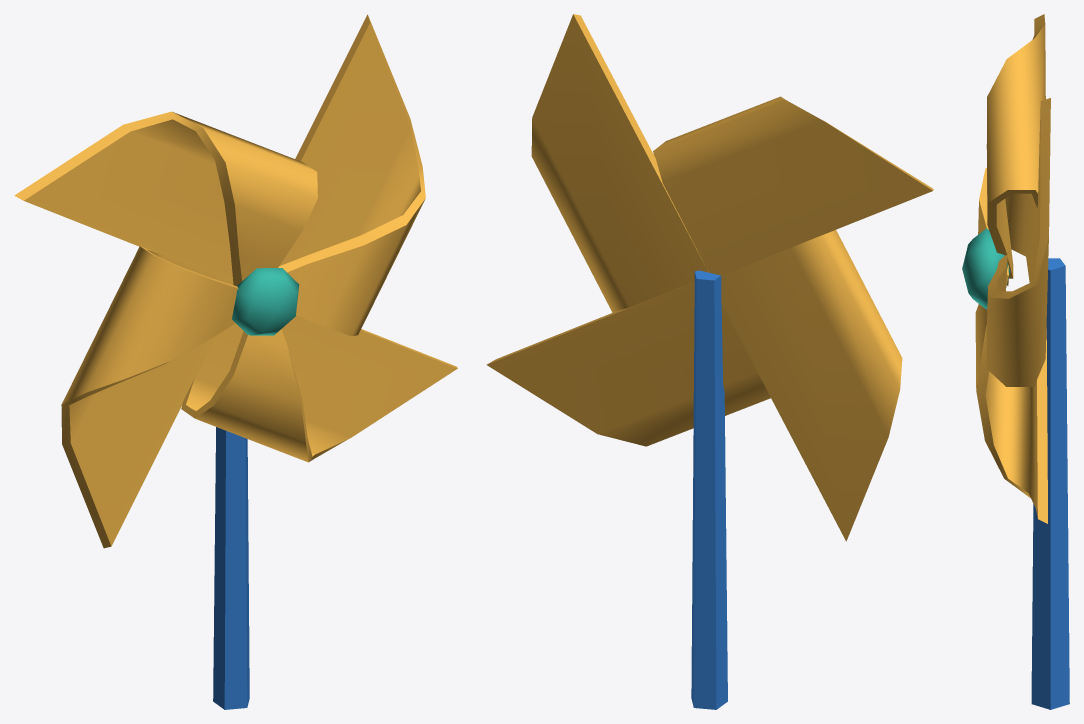
File: HandAcc_8.fbx
3 views of the same model, side by side, from view 1: azimuth 30°, elevation 25°; view 2: azimuth 150°, elevation 25°; view 3: azimuth 270°, elevation 25° (orthographic). The views are drawn at different scales.
Parts seen in each view (by area): view 1: HandAcc_8; view 2: HandAcc_8; view 3: HandAcc_8.
Boxes of the visible parts, x1=… form: HandAcc_8: x1=14, y1=14, x2=457, y2=709; HandAcc_8: x1=486, y1=14, x2=933, y2=709; HandAcc_8: x1=962, y1=14, x2=1069, y2=709.
Bounding box in the file's own units: 40.23 × 56.63 × 8.23.
